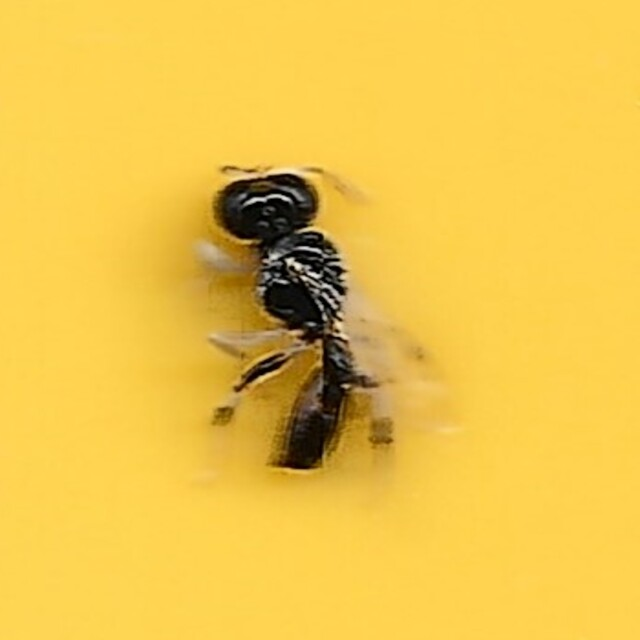Hymenoptera: (183, 154, 457, 486)
